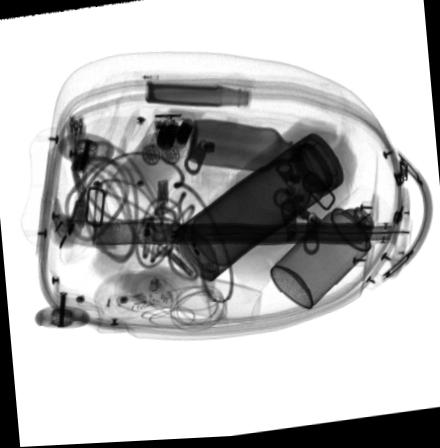Sprayer: (268, 189, 388, 311)
